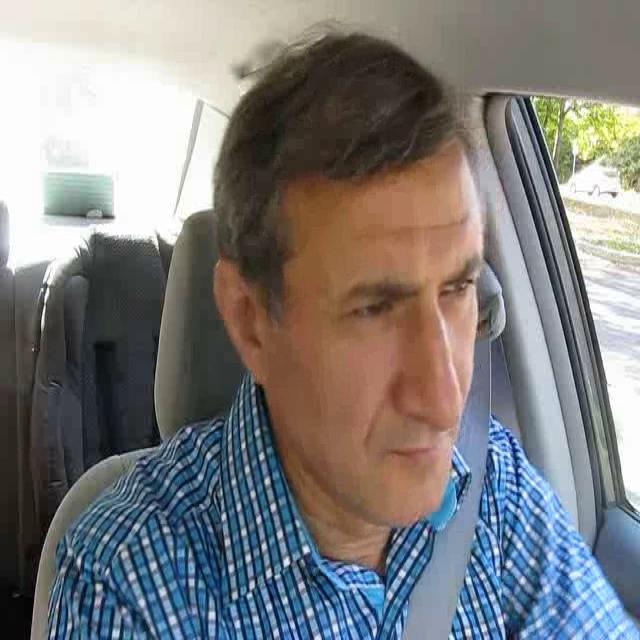close: (377, 434, 456, 469)
